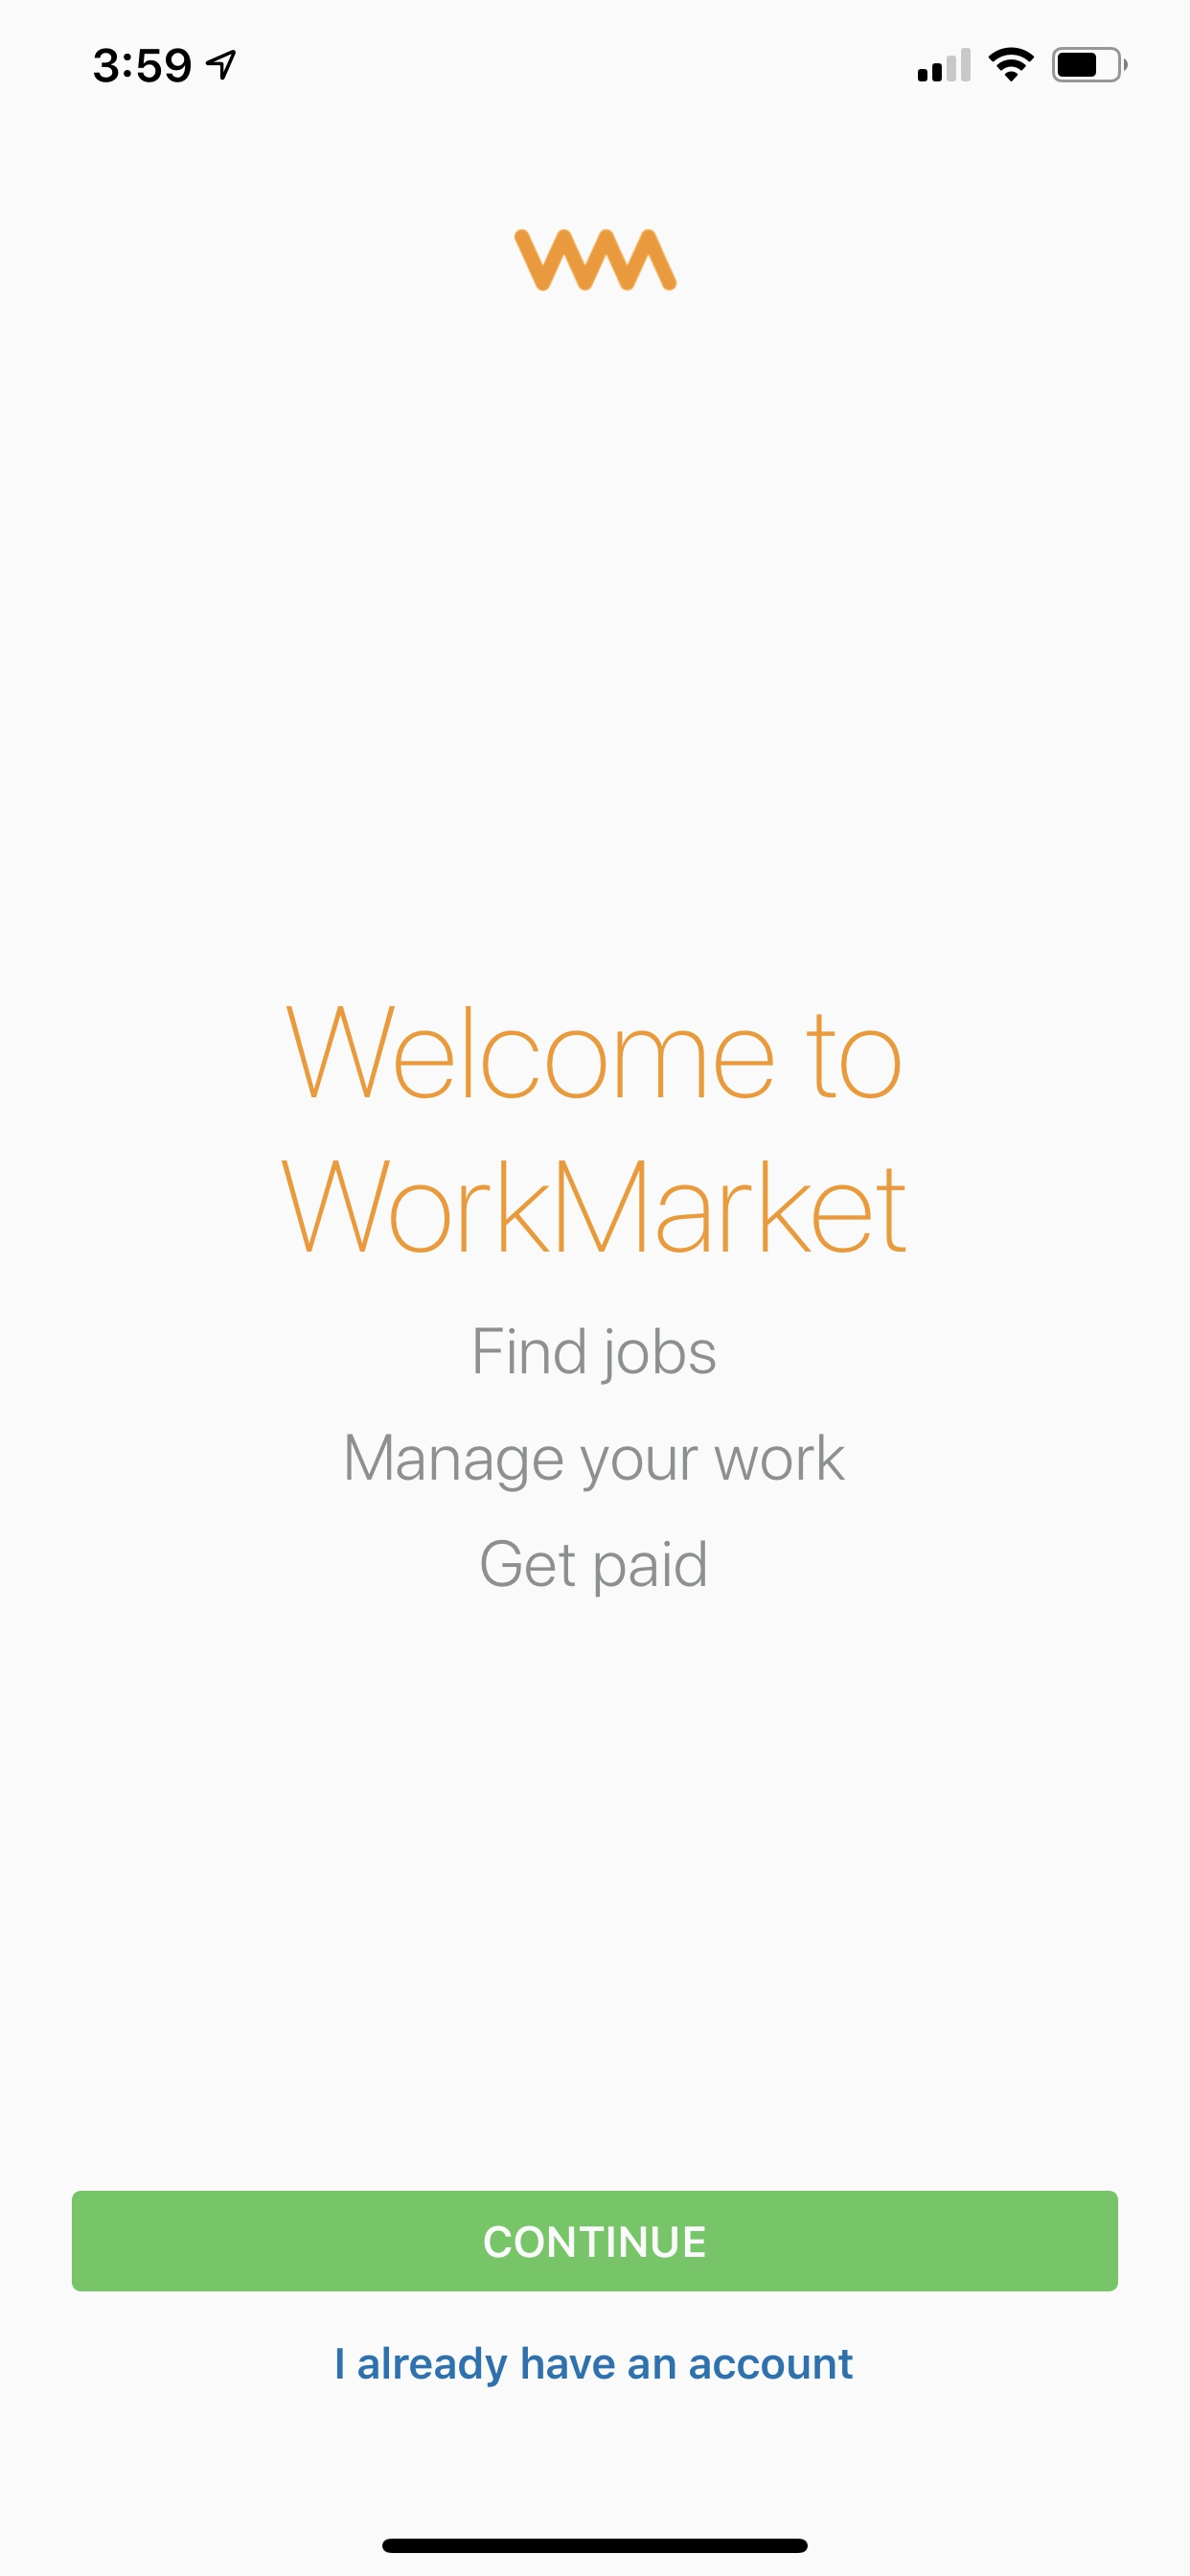Image: (514, 228, 679, 292)
Text: (283, 1005, 906, 1253), (347, 1434, 845, 1492), (337, 2346, 853, 2387), (475, 1327, 715, 1385), (482, 1539, 705, 1597)
TextButton: (72, 2190, 1118, 2292)
UpperTaskBar: (94, 48, 1128, 84)
